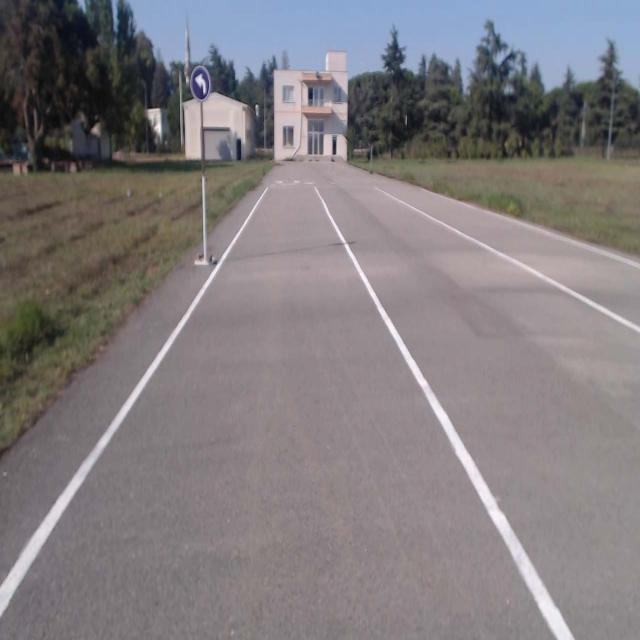sol: (190, 66, 210, 100)
